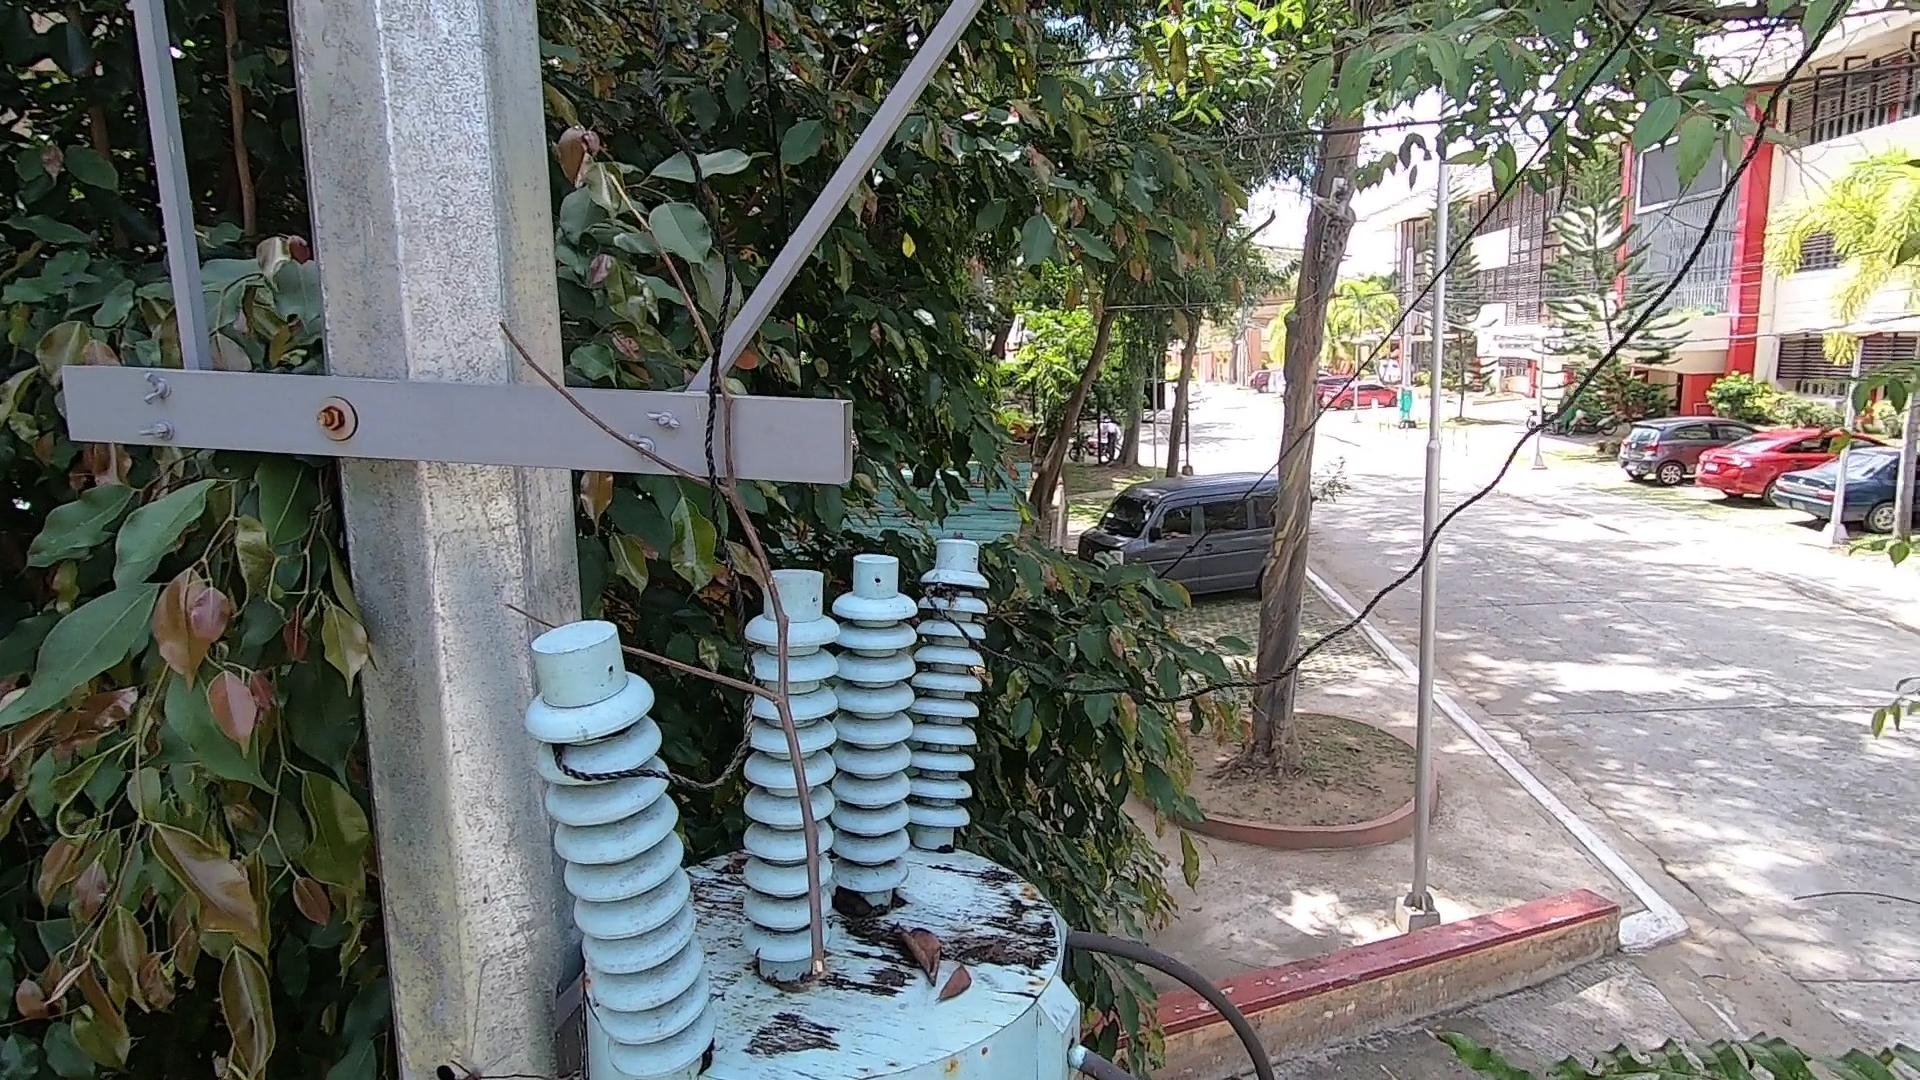leaf: (890, 919, 960, 992), (934, 964, 986, 1014), (831, 884, 877, 934)
tree branch: (481, 223, 870, 992)
